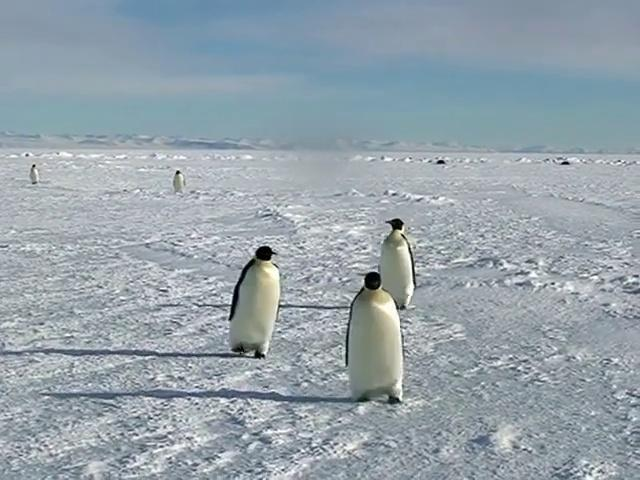animal: (379, 219, 418, 312)
